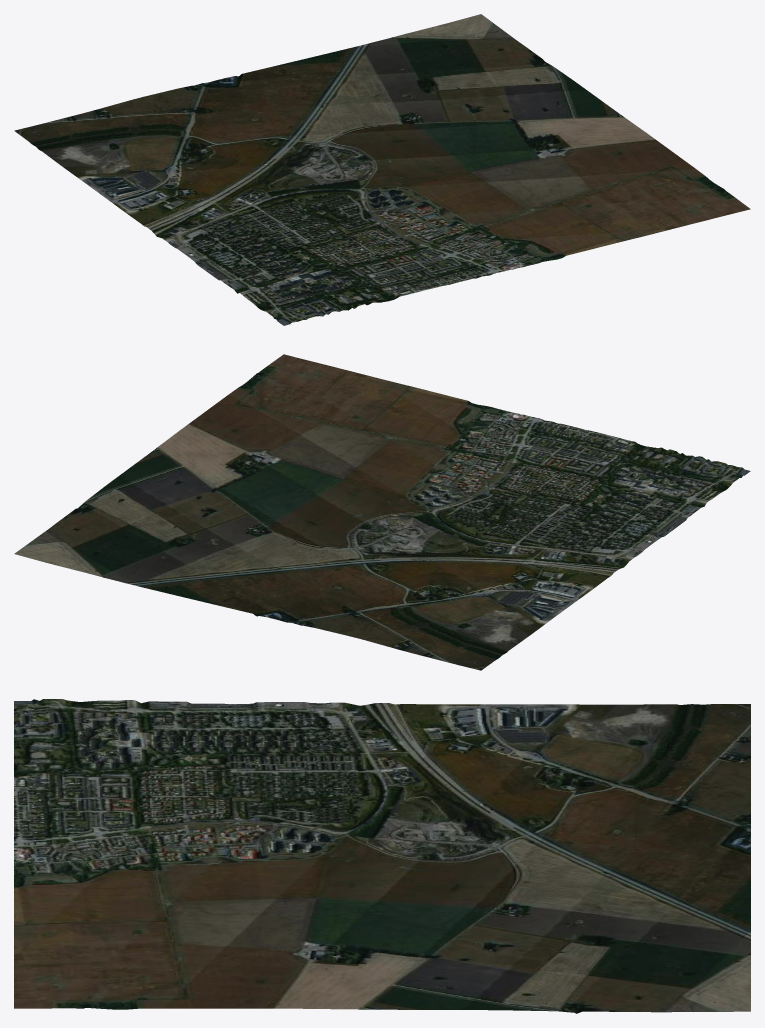
The model's file is map_10_257_432.dae.
3 views of the same model, one above another, from view 1: azimuth 30°, elevation 25°; view 2: azimuth 150°, elevation 25°; view 3: azimuth 270°, elevation 25° (orthographic). The views are drawn at different scales.
Visible parts, largest first — view 1: Ter0; view 2: Ter0; view 3: Ter0.
Part boxes in pixels (x1,y1,x2,y2): Ter0: (14,14,750,325); Ter0: (14,354,750,670); Ter0: (14,699,750,1013).
Size of the model in its own units: 2044 by 2044 by 41.9.
3 materials, 3 textured.
